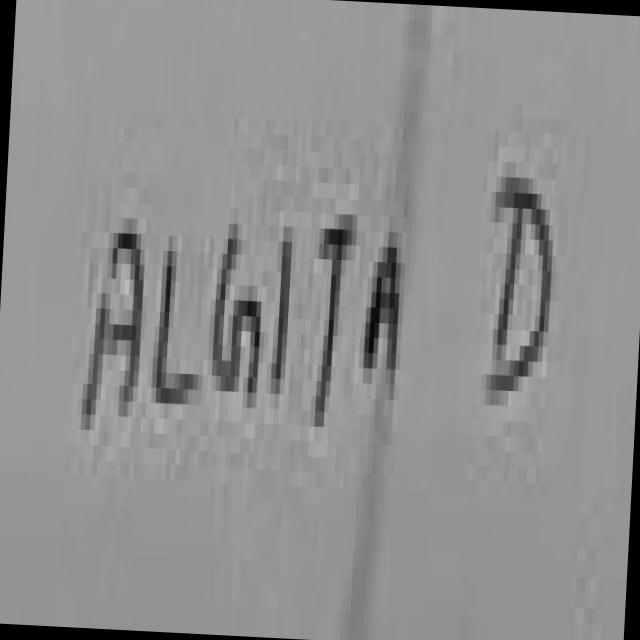A: (72, 174, 156, 456), (354, 195, 418, 434)
D: (468, 97, 578, 450)
G: (203, 195, 275, 428)
I: (260, 195, 310, 428)
L: (144, 195, 216, 444)
T: (298, 186, 366, 437)
